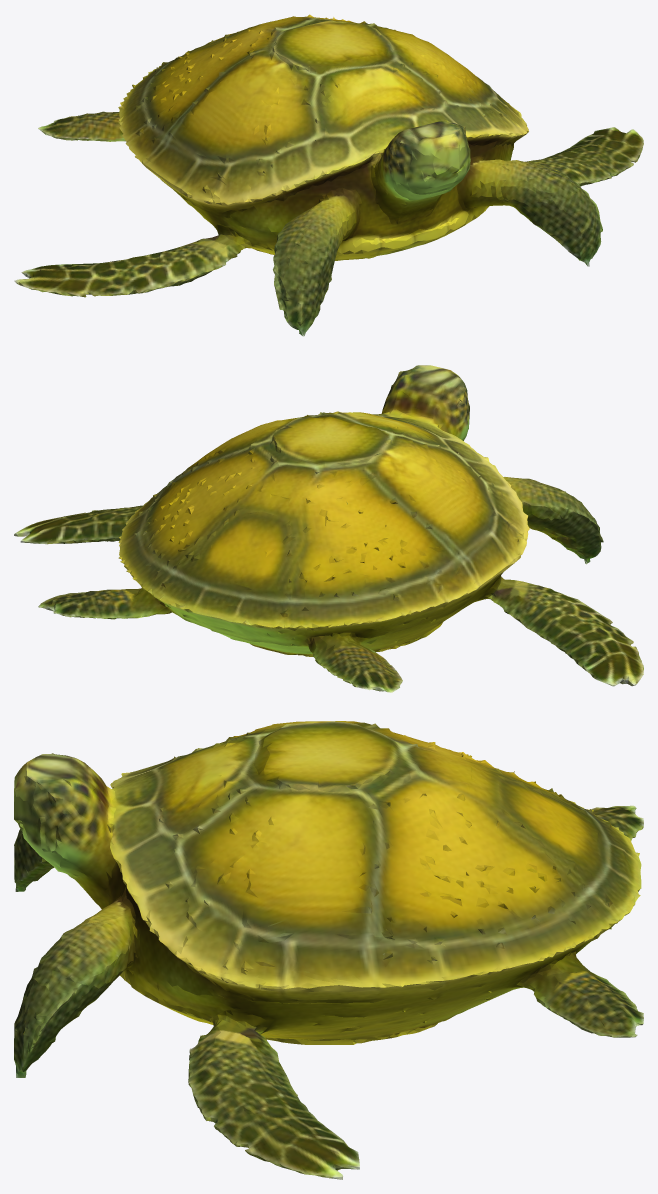
Rendered from turtle.glb.
The picture shows the model from 3 angles, top to bottom: view 1: azimuth 30°, elevation 25°; view 2: azimuth 150°, elevation 25°; view 3: azimuth 270°, elevation 25°; orthographic projection. The views are drawn at different scales.
Visible parts, largest first — view 1: SeaTurtle; view 2: SeaTurtle; view 3: SeaTurtle.
Part boxes in pixels (<box>): SeaTurtle: <box>14,14,643,336</box>; SeaTurtle: <box>14,365,643,692</box>; SeaTurtle: <box>14,721,643,1179</box>.
Bounding box in the file's own units: 1.9 × 0.5076 × 1.25.
1 material, 1 textured.
